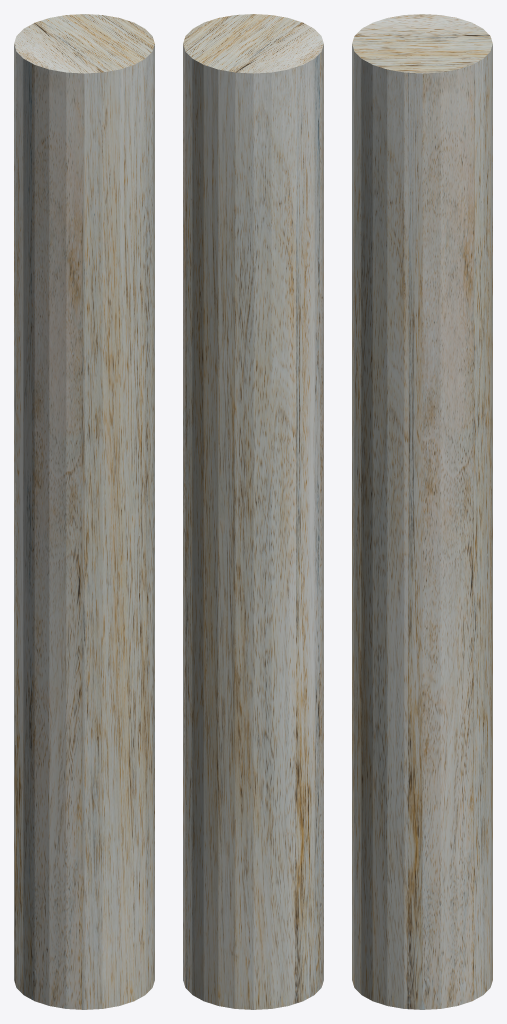
File: p_pole3.dae
The picture shows the model from 3 angles, left to right: view 1: azimuth 30°, elevation 25°; view 2: azimuth 150°, elevation 25°; view 3: azimuth 270°, elevation 25°; orthographic projection.
Visible parts, largest first — view 1: instance_0; view 2: instance_0; view 3: instance_0.
Part boxes in pixels (x1,y1,x2,y2): instance_0: (14,14,154,1009); instance_0: (183,14,323,1009); instance_0: (352,14,492,1009).
Bounding box in the file's own units: 11.81 × 11.81 × 86.61.
Materials: 1 (1 with a texture image).
